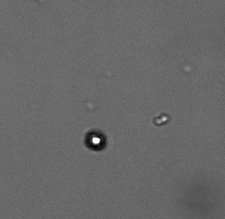Living Cell: (83, 129, 108, 153)
